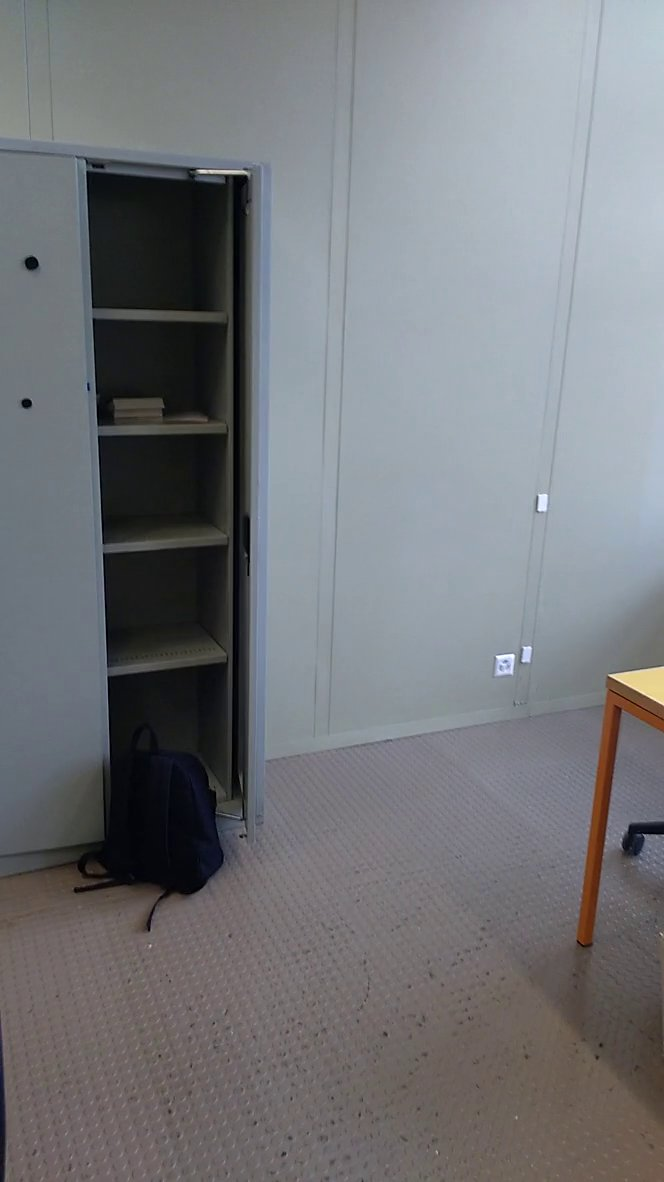bag: (69, 710, 237, 919)
